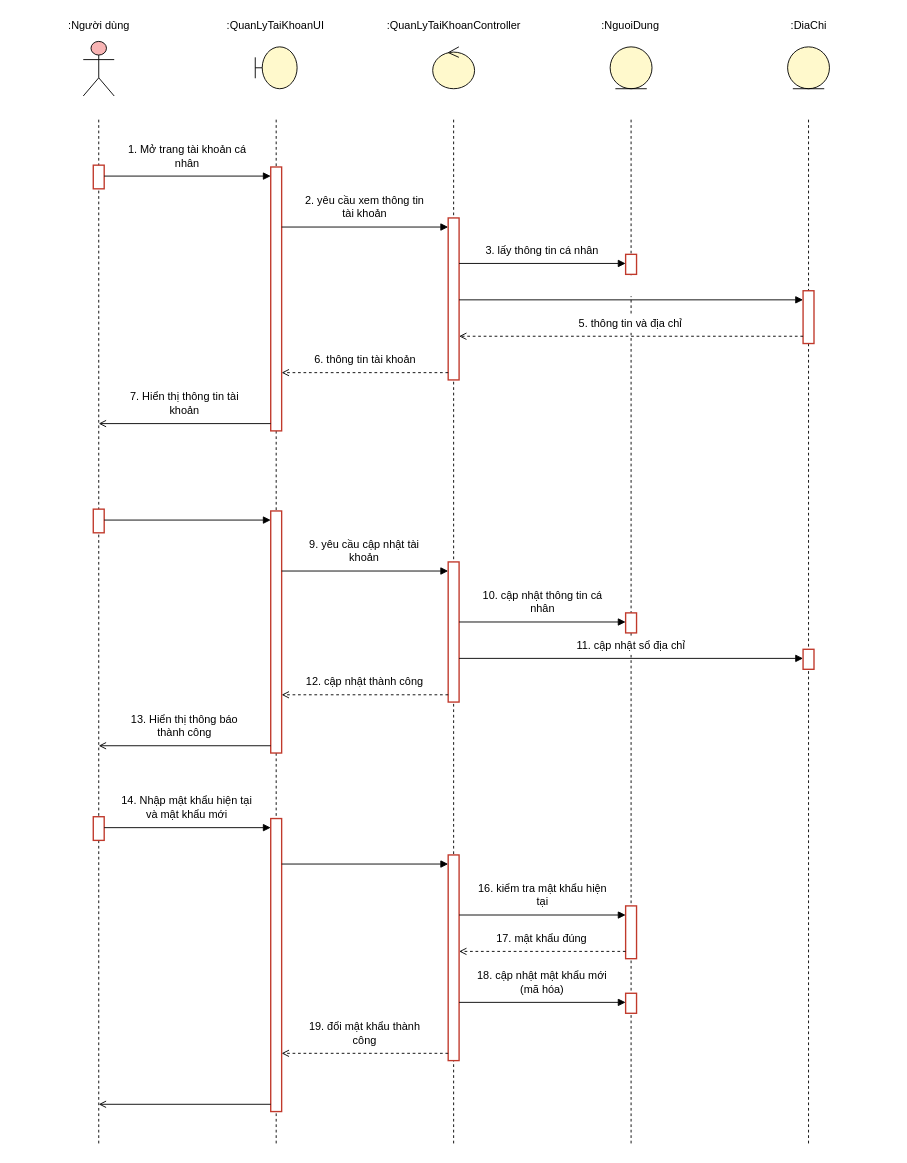
This 907x1163 diagram has some shape labels left out. The box of each missing label's shape, as (x1, y1, x2, y2) in pixels:
15. yêu cầu đổi mật khẩu: (288, 842, 440, 860)
20. Hiển thị thông báo đổi mật khẩu: (106, 1067, 262, 1100)
4. lấy sổ địa chỉ: (581, 278, 680, 296)
8. Sửa thông tin, thêm hoặc sửa địa chỉ, click "Lưu": (119, 469, 255, 516)
